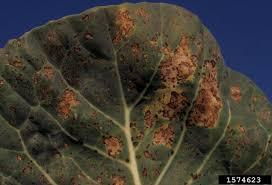Bok-Choy-Diseased: (0, 4, 232, 165)
